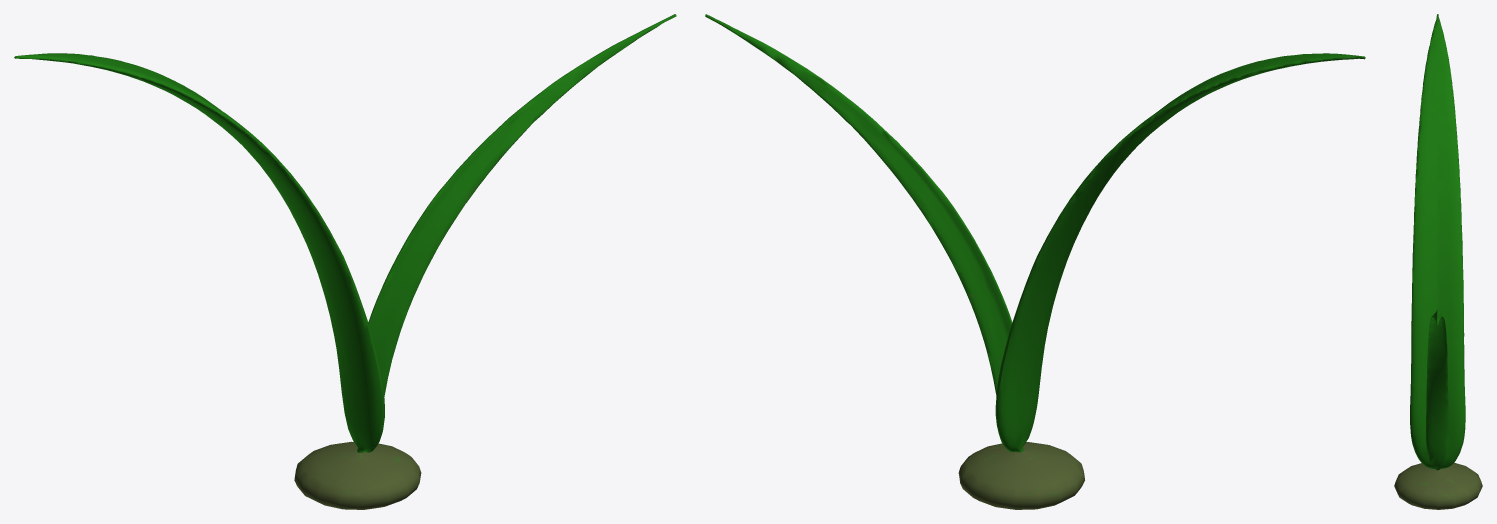
The picture shows the model from 3 angles, left to right: view 1: azimuth 30°, elevation 25°; view 2: azimuth 150°, elevation 25°; view 3: azimuth 270°, elevation 25°; orthographic projection. The views are drawn at different scales.
Parts seen in each view (by area): view 1: meadow-sprig.001; view 2: meadow-sprig.001; view 3: meadow-sprig.001.
Part boxes in pixels (box(x1,y1,x2,y2)): meadow-sprig.001: box(14, 14, 676, 509); meadow-sprig.001: box(705, 14, 1365, 509); meadow-sprig.001: box(1394, 14, 1482, 509).
Size of the model in its own units: 0.593 by 0.4501 by 0.0979.
Materials: 1 (1 with a texture image).
